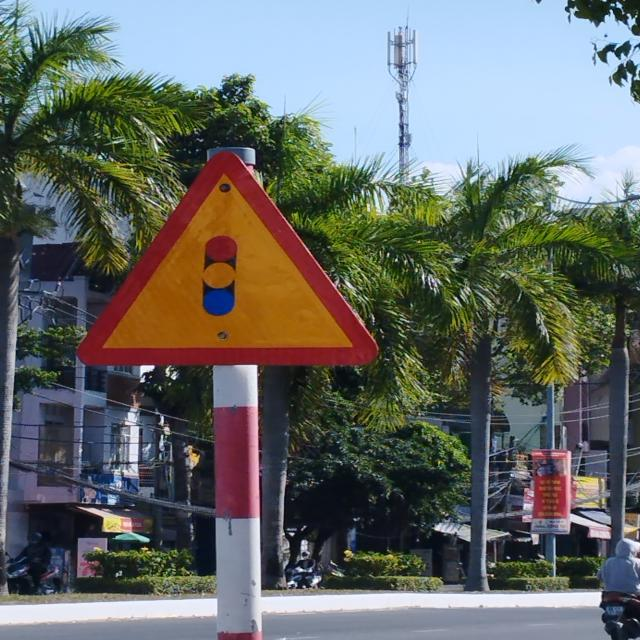Duong_Co_Go_Giam_Toc: (73, 150, 382, 366)
